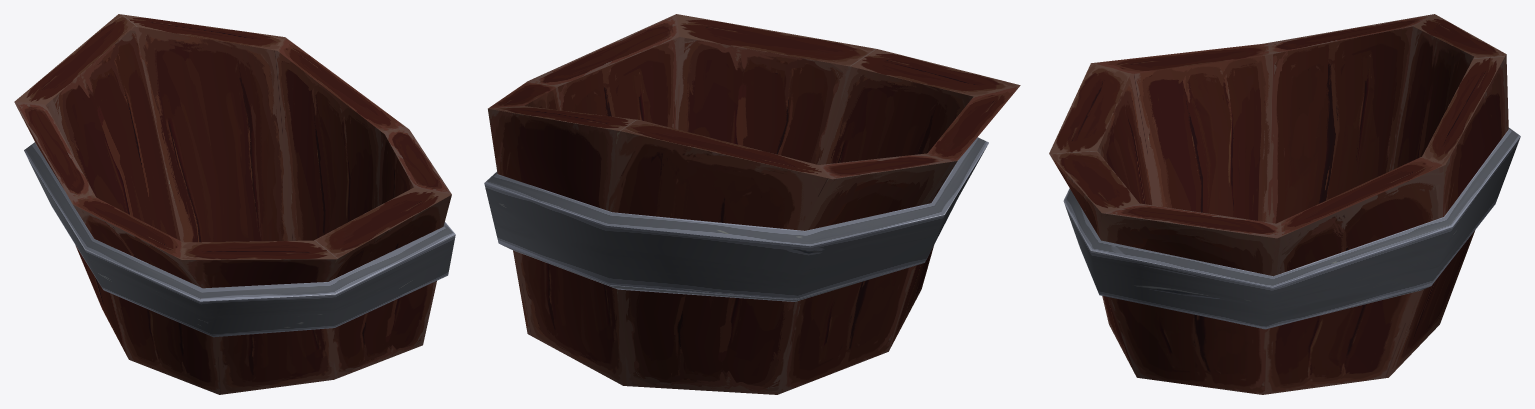
File: SM_PROP_bucket_01.fbx
The picture shows the model from 3 angles, left to right: view 1: azimuth 30°, elevation 25°; view 2: azimuth 150°, elevation 25°; view 3: azimuth 270°, elevation 25°; orthographic projection. The views are drawn at different scales.
Parts seen in each view (by area): view 1: SM_PROP_bucket_01; view 2: SM_PROP_bucket_01; view 3: SM_PROP_bucket_01.
Boxes of the visible parts, x1=… form: SM_PROP_bucket_01: x1=14, y1=14, x2=455, y2=394; SM_PROP_bucket_01: x1=484, y1=14, x2=1020, y2=394; SM_PROP_bucket_01: x1=1049, y1=14, x2=1520, y2=394.
Bounding box in the file's own units: 54.29 × 35.84 × 60.22.
